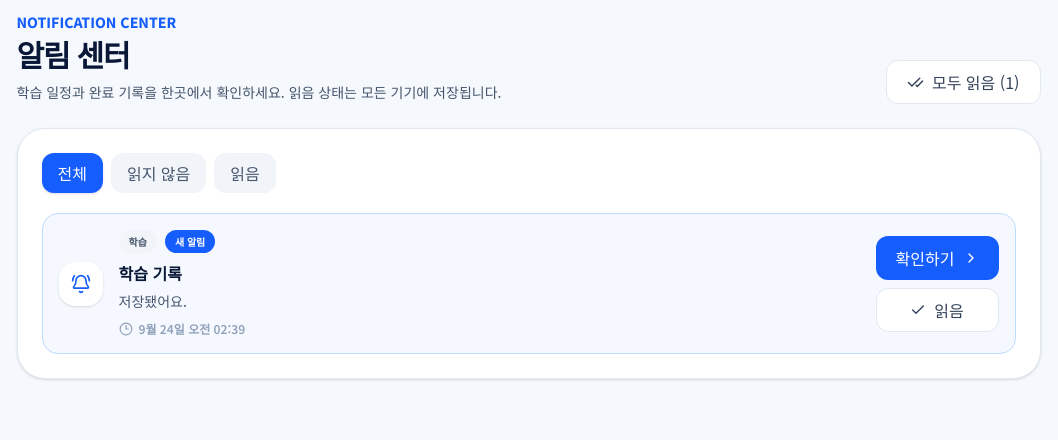
Test: notification confirmation › stays on the notification when saving read state fails
The image size is (1058, 440).
What coordinates should you click on to do the following:
click the button "확인하기"
I would click on:
 (937, 258)
Its box is [876,236,998,280].
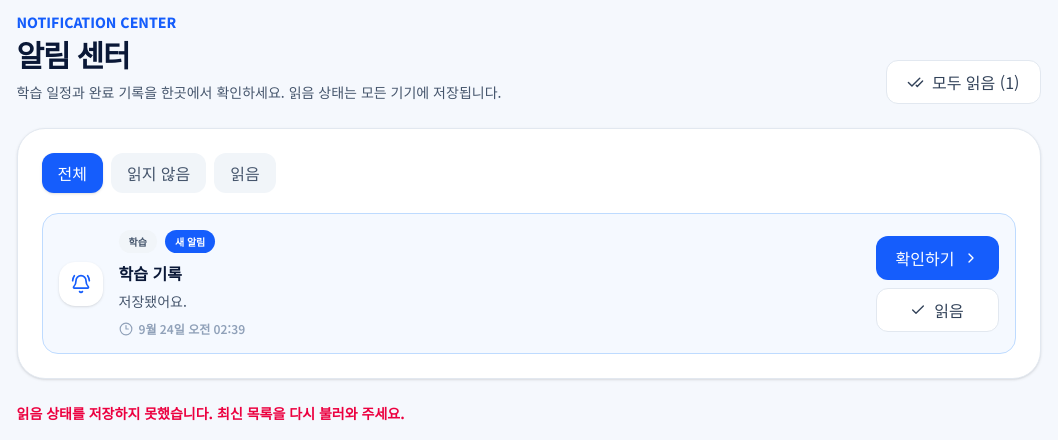
Now the message shows "읽음 상태를 저장하지 못했습니다", box [16,403,405,423]
